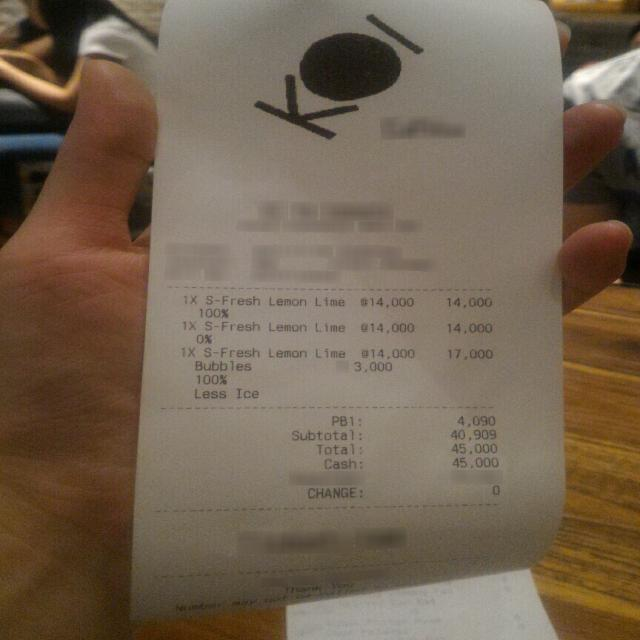kertas: (132, 0, 565, 620)
